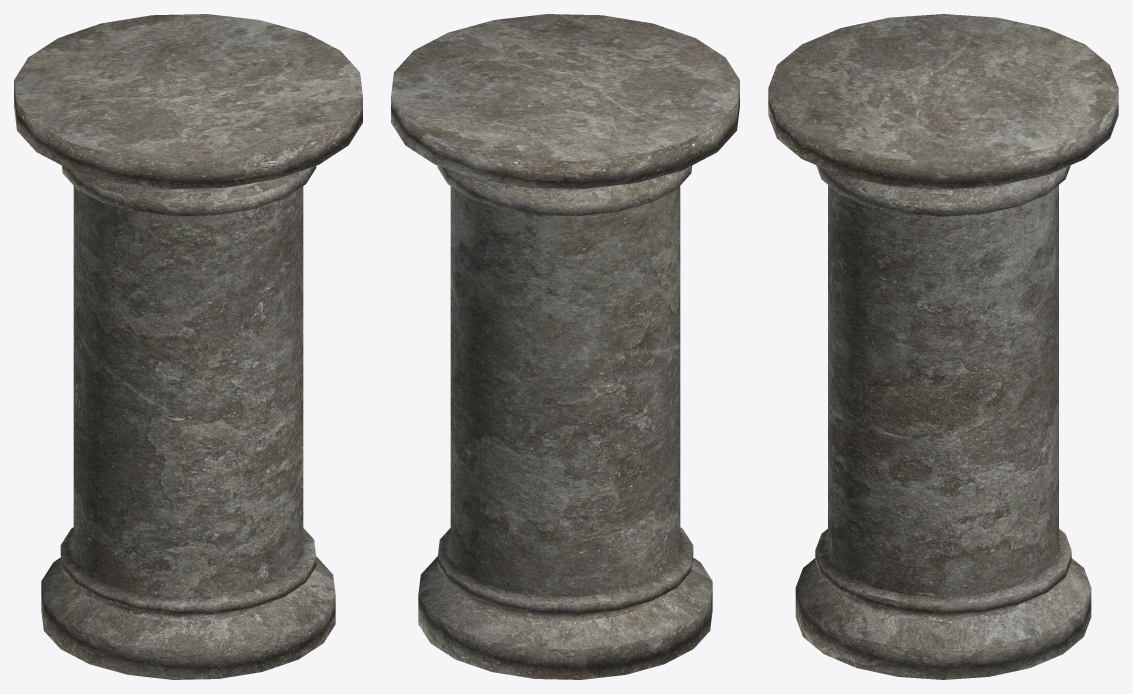
File: Pedestal.fbx
The picture shows the model from 3 angles, left to right: view 1: azimuth 30°, elevation 25°; view 2: azimuth 150°, elevation 25°; view 3: azimuth 270°, elevation 25°; orthographic projection.
Visible parts, largest first — view 1: pCylinder1; view 2: pCylinder1; view 3: pCylinder1.
Part boxes in pixels (x1=…): pCylinder1: x1=14, y1=14, x2=362, y2=679; pCylinder1: x1=391, y1=14, x2=739, y2=679; pCylinder1: x1=768, y1=14, x2=1118, y2=679.
Bounding box in the file's own units: 3.56 × 5.94 × 3.56.
